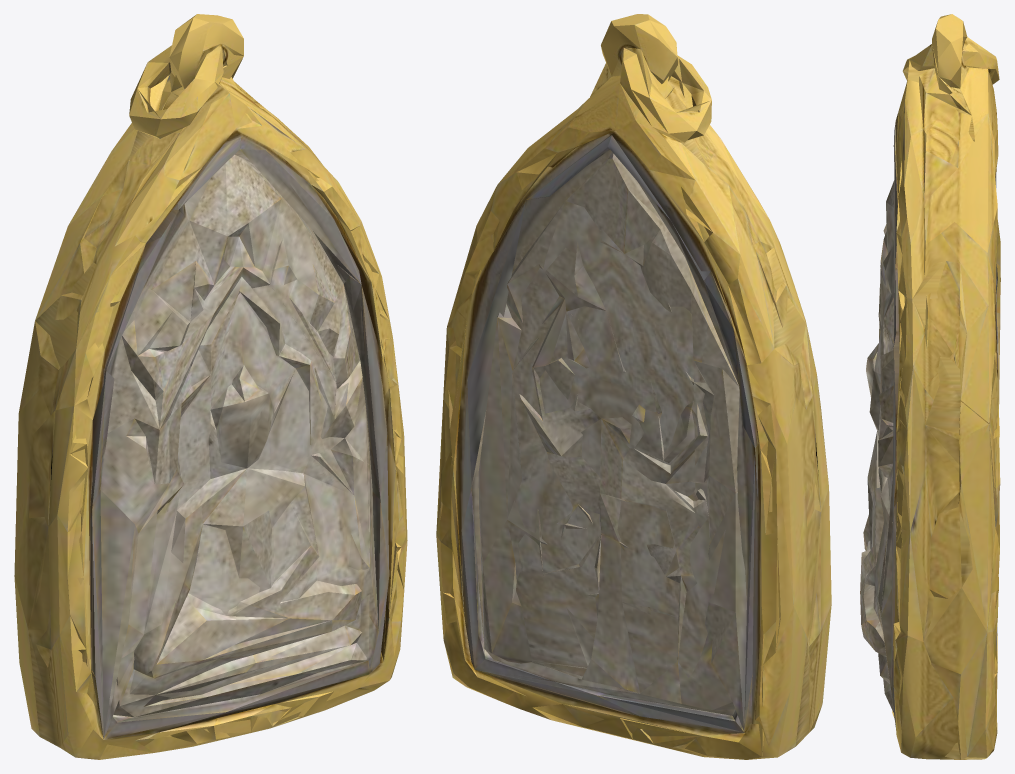
Rendered from e4khunpaen.glb.
3 renders of one model, left to right at view 1: azimuth 30°, elevation 25°; view 2: azimuth 150°, elevation 25°; view 3: azimuth 270°, elevation 25°, orthographic. The views are drawn at different scales.
Parts seen in each view (by area): view 1: e4khunpaen_near, e4khunpaen_far; view 2: e4khunpaen_near, e4khunpaen_far; view 3: e4khunpaen_near, e4khunpaen_far.
Boxes of the visible parts, bbox=[...] form: e4khunpaen_near: bbox=[14, 14, 407, 759]; e4khunpaen_far: bbox=[28, 43, 398, 747]; e4khunpaen_near: bbox=[436, 14, 831, 759]; e4khunpaen_far: bbox=[443, 47, 820, 755]; e4khunpaen_near: bbox=[860, 14, 1000, 759]; e4khunpaen_far: bbox=[865, 37, 998, 759].
Bounding box in the file's own units: 0.0294 × 0.056 × 0.0105.
2 materials, 2 textured.
